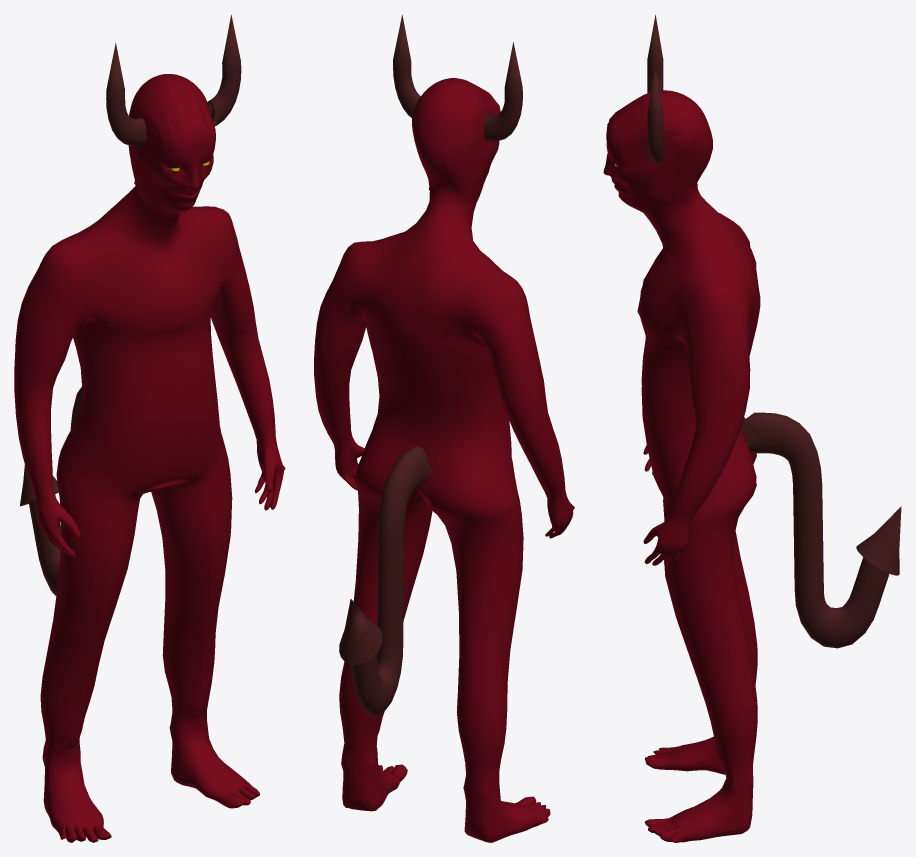
The model's file is Satan.fbx.
3 renders of one model, left to right at view 1: azimuth 30°, elevation 25°; view 2: azimuth 150°, elevation 25°; view 3: azimuth 270°, elevation 25°, orthographic. The views are drawn at different scales.
Parts seen in each view (by area): view 1: pCylinder15; view 2: pCylinder15; view 3: pCylinder15.
Part boxes in pixels (x1=…): pCylinder15: x1=14, y1=15, x2=285, y2=842; pCylinder15: x1=314, y1=15, x2=574, y2=842; pCylinder15: x1=603, y1=15, x2=901, y2=842.
Bounding box in the file's own units: 11.59 × 36.1 × 12.81.
